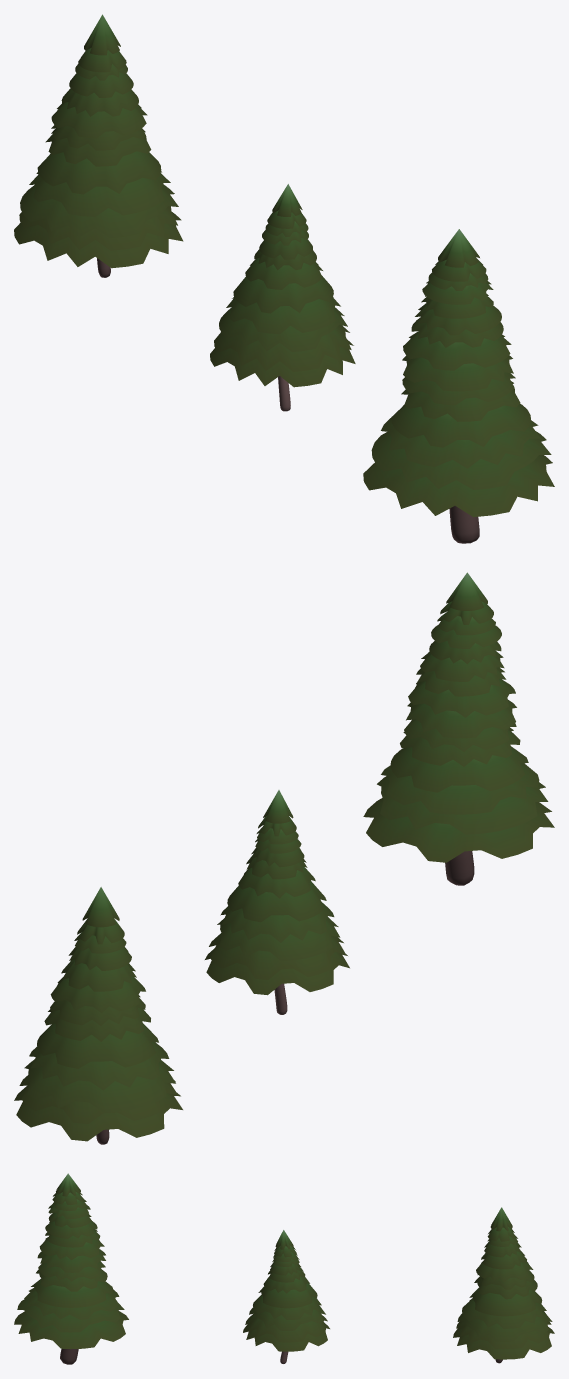
The model's file is Map3_bo3.fbx.
The picture shows the model from 3 angles, top to bottom: view 1: azimuth 30°, elevation 25°; view 2: azimuth 150°, elevation 25°; view 3: azimuth 270°, elevation 25°; orthographic projection. The views are drawn at different scales.
Parts seen in each view (by area): view 1: Tree.003, Tree.017, Tree.012; view 2: Tree.003, Tree.017, Tree.012; view 3: Tree.003, Tree.017, Tree.012.
Boxes of the visible parts, box(x1,y1,x2,y2) form: Tree.003: box(363, 229, 554, 543); Tree.017: box(14, 14, 183, 277); Tree.012: box(210, 184, 355, 411); Tree.003: box(363, 572, 554, 885); Tree.017: box(14, 887, 182, 1144); Tree.012: box(205, 790, 349, 1014); Tree.003: box(14, 1173, 128, 1364); Tree.017: box(453, 1207, 554, 1363); Tree.012: box(243, 1230, 329, 1363).
Bounding box in the file's own units: 268 × 482 × 1255.
1 material, 1 textured.
